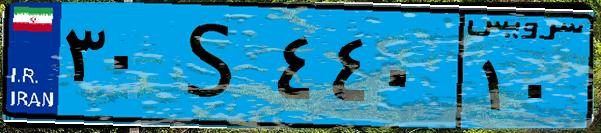0: (385, 28, 445, 110), (525, 38, 570, 115), (110, 28, 158, 98)
1: (475, 38, 525, 113)
3: (57, 26, 110, 100)
4: (270, 28, 330, 110), (330, 28, 385, 110)
S: (158, 12, 270, 120)
